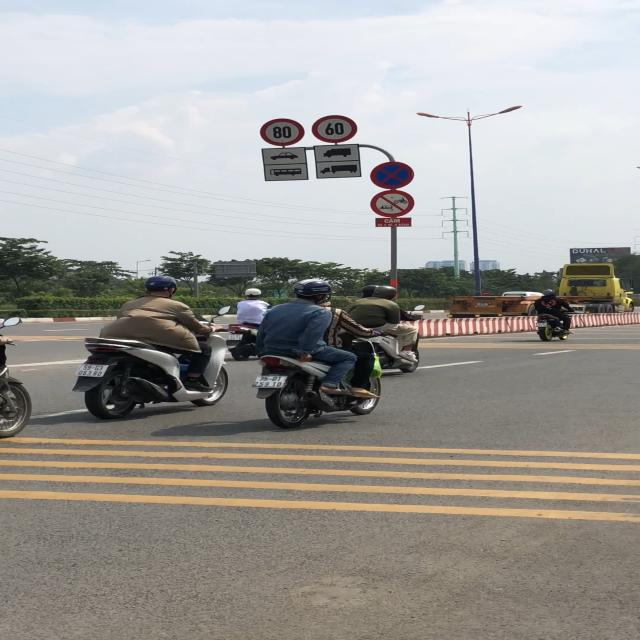Bien bao cam dung xe va do xe: (368, 160, 418, 189)
Bien bao toc do toi da cho phep: (255, 117, 306, 148), (311, 114, 358, 143)
